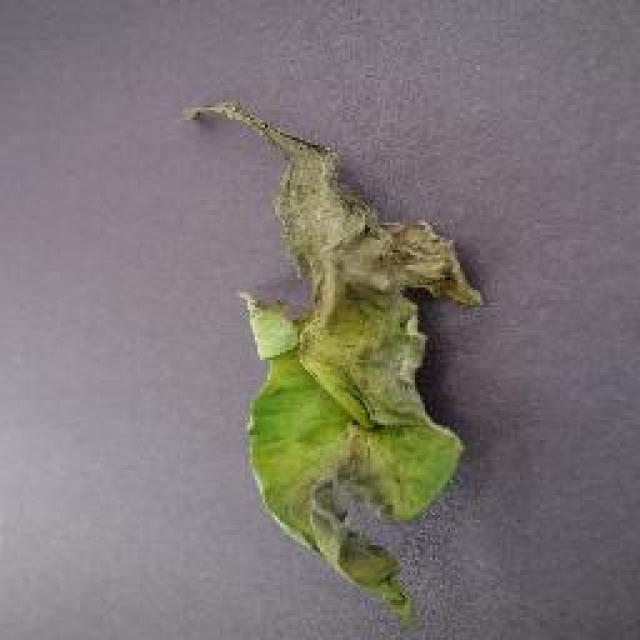Tomato___Late_blight: (185, 100, 482, 625)
